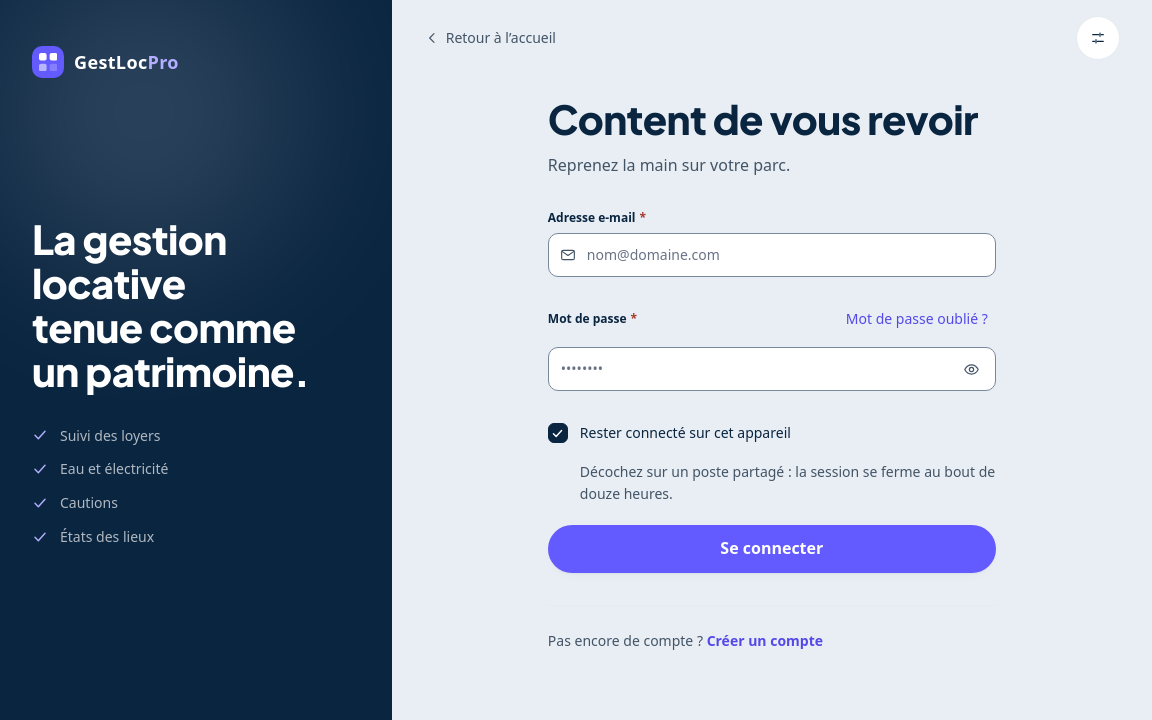
Test: la session qui échoue après la connexion › garde le refus quand ce sont les IDENTIFIANTS qui sont refusés
Type "sarah@example.com" into the field labelled "Adresse e-mail*" at {"x": 772, "y": 255}, box [548, 233, 996, 277]
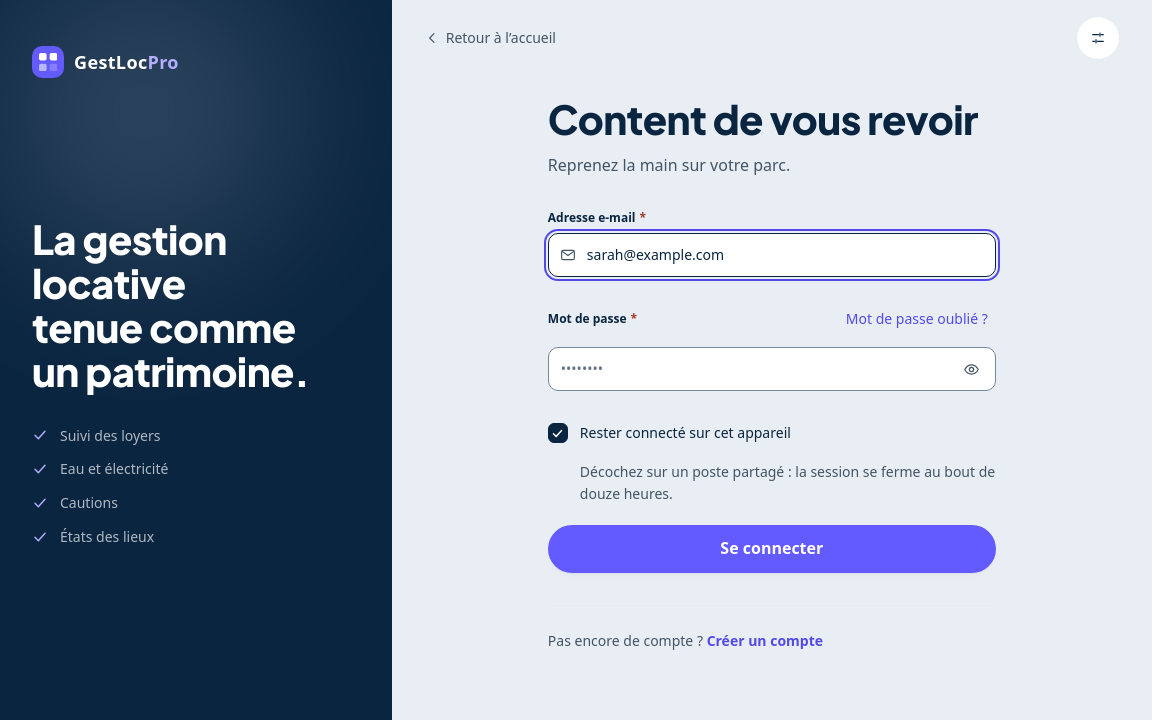
Type "Bonamoussadi2026!" into the password field labelled "Mot de passe*" at {"x": 772, "y": 369}, box [548, 347, 996, 391]
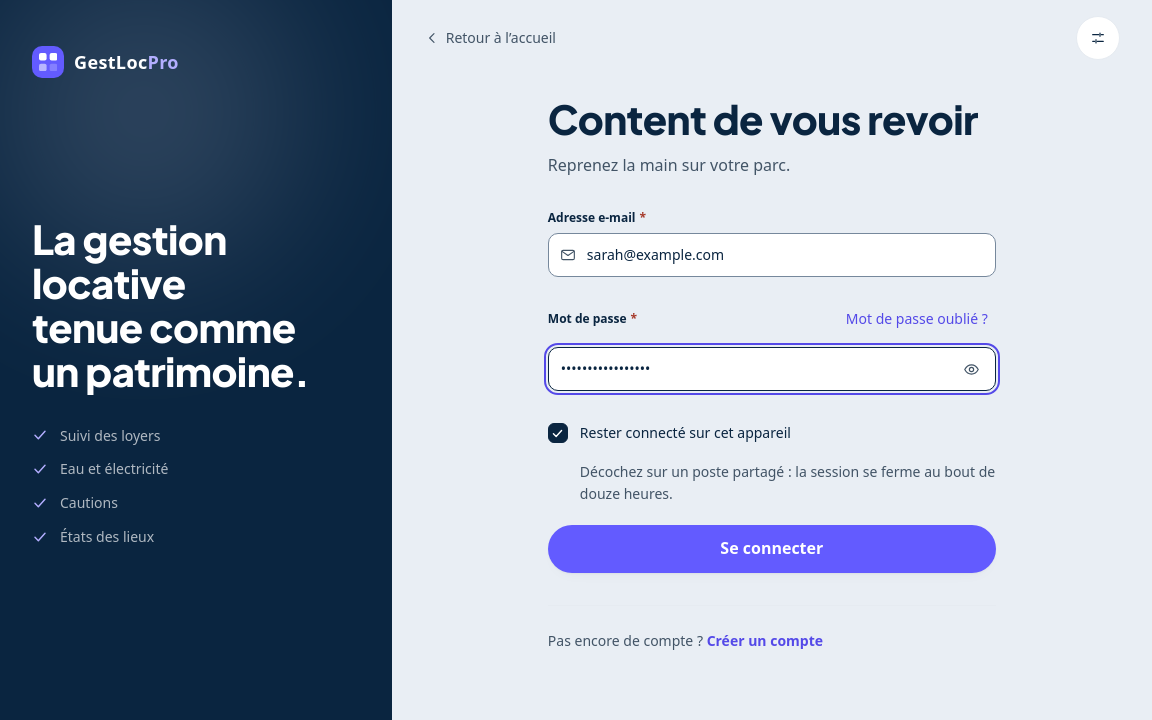
Click the button "Se connecter" at {"x": 772, "y": 548}, box [548, 524, 996, 572]
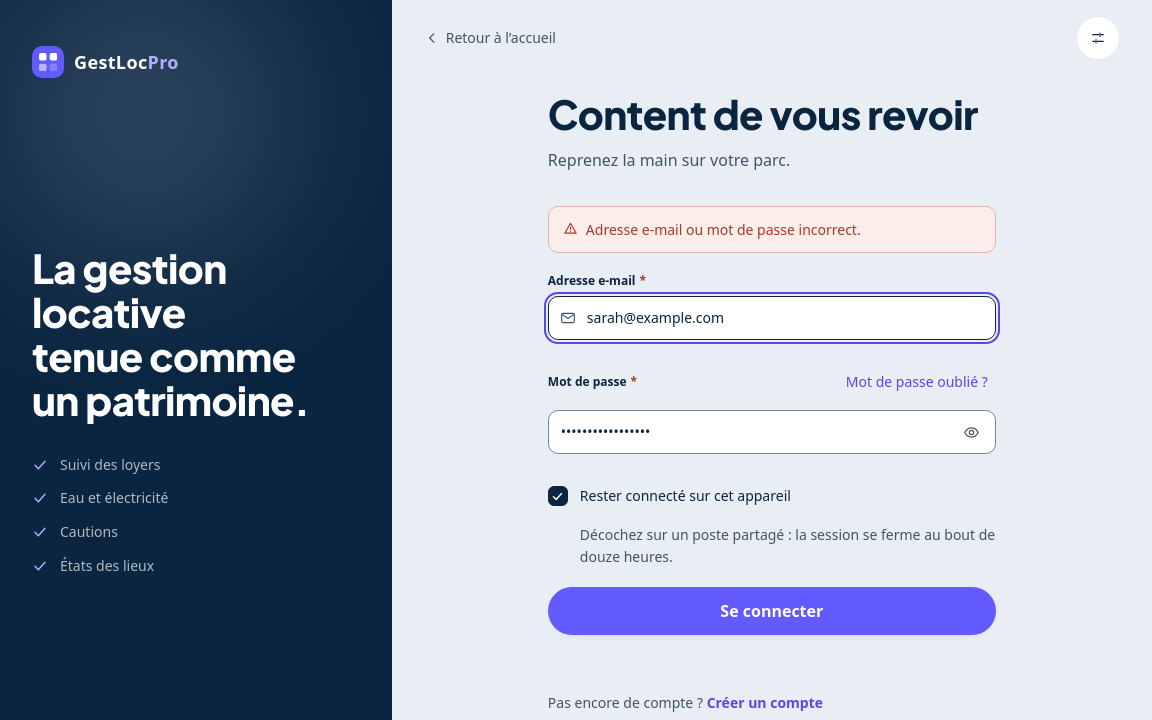
Expected: the text "Adresse e-mail ou mot de passe incorrect." is shown, [586, 219, 861, 240]
